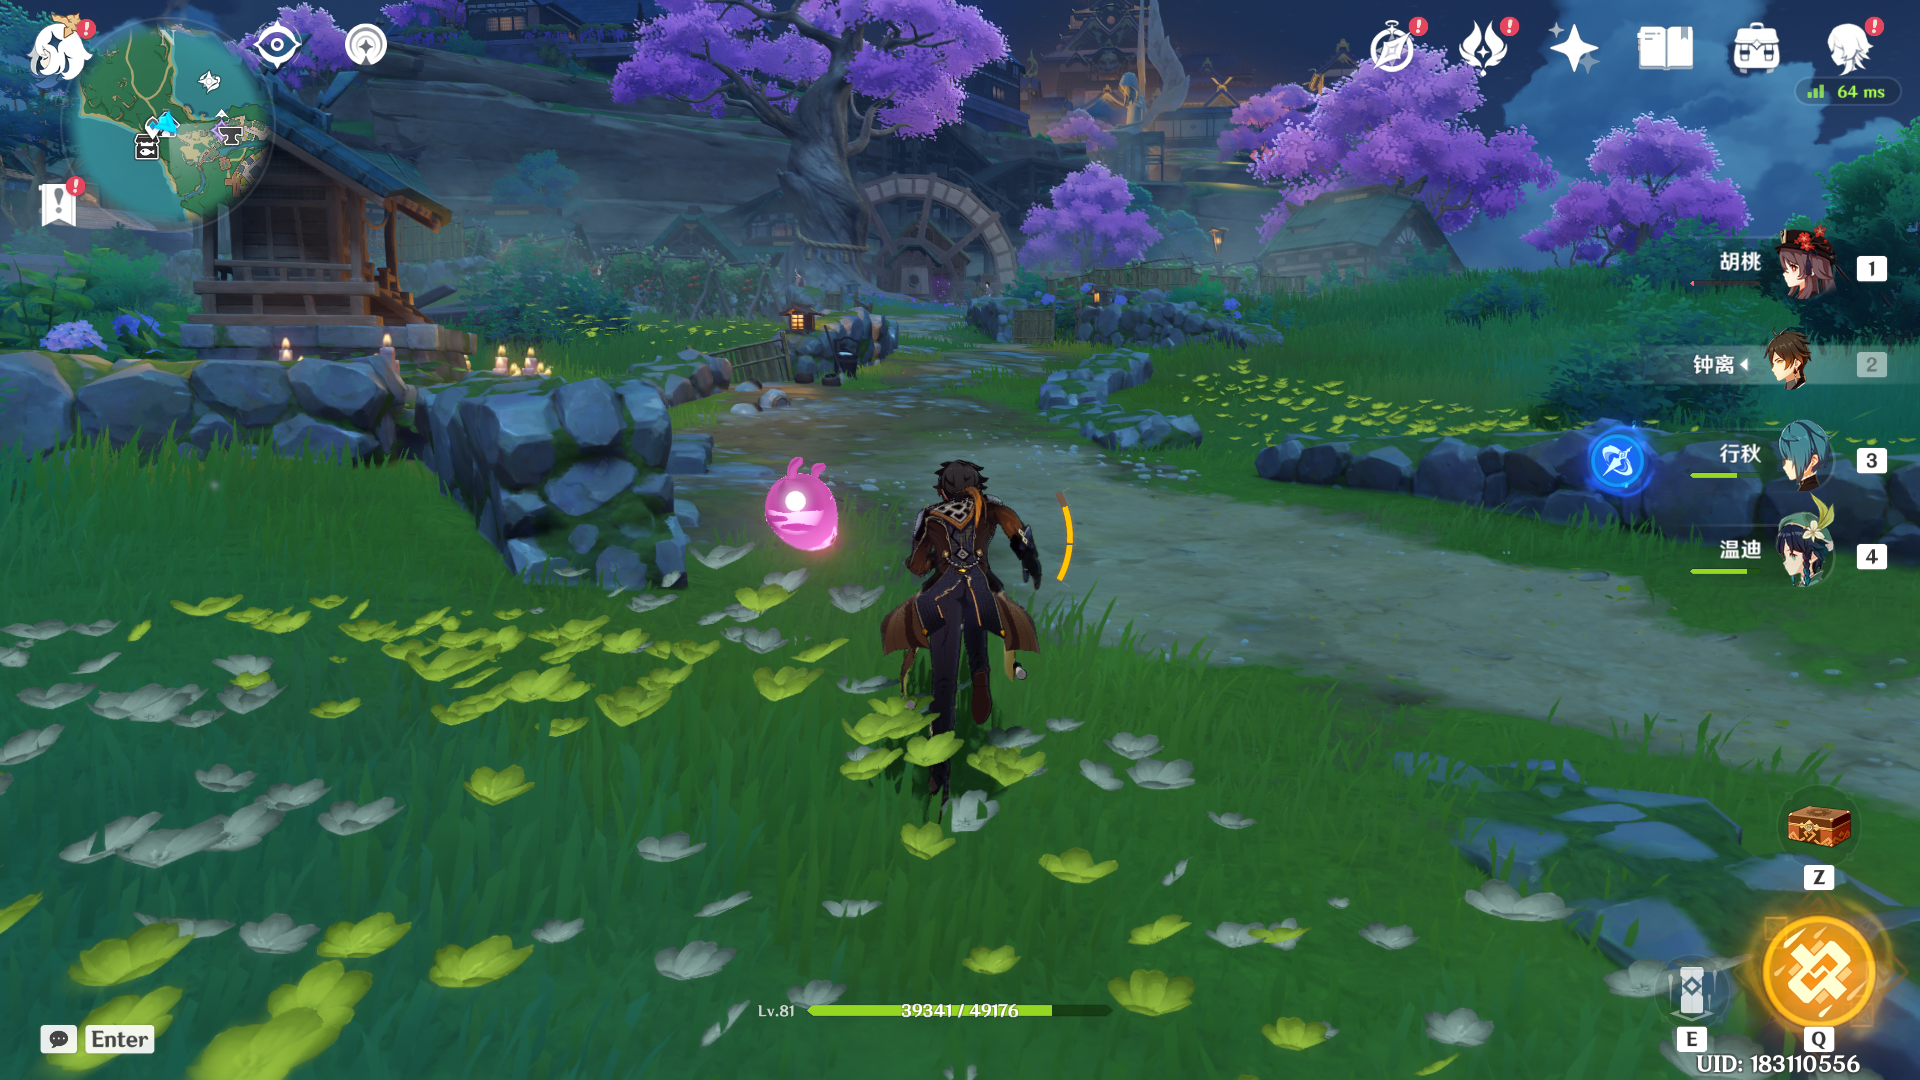character: (857, 439, 1069, 756)
